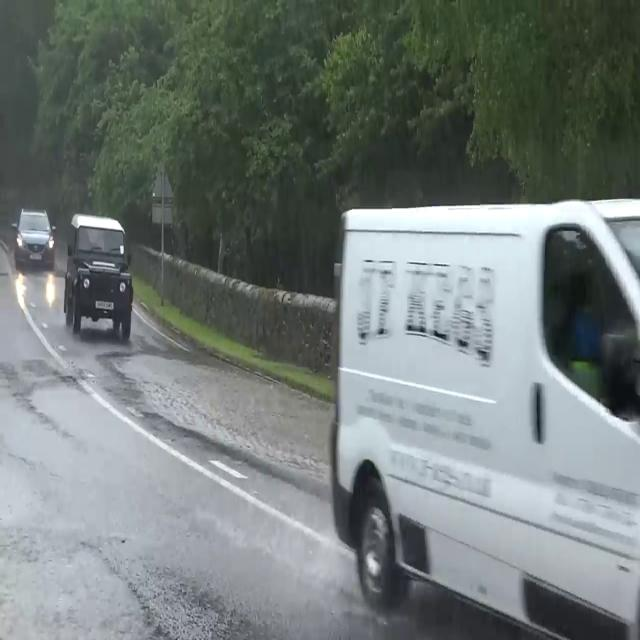license-plate-annotation: (92, 293, 116, 313)
